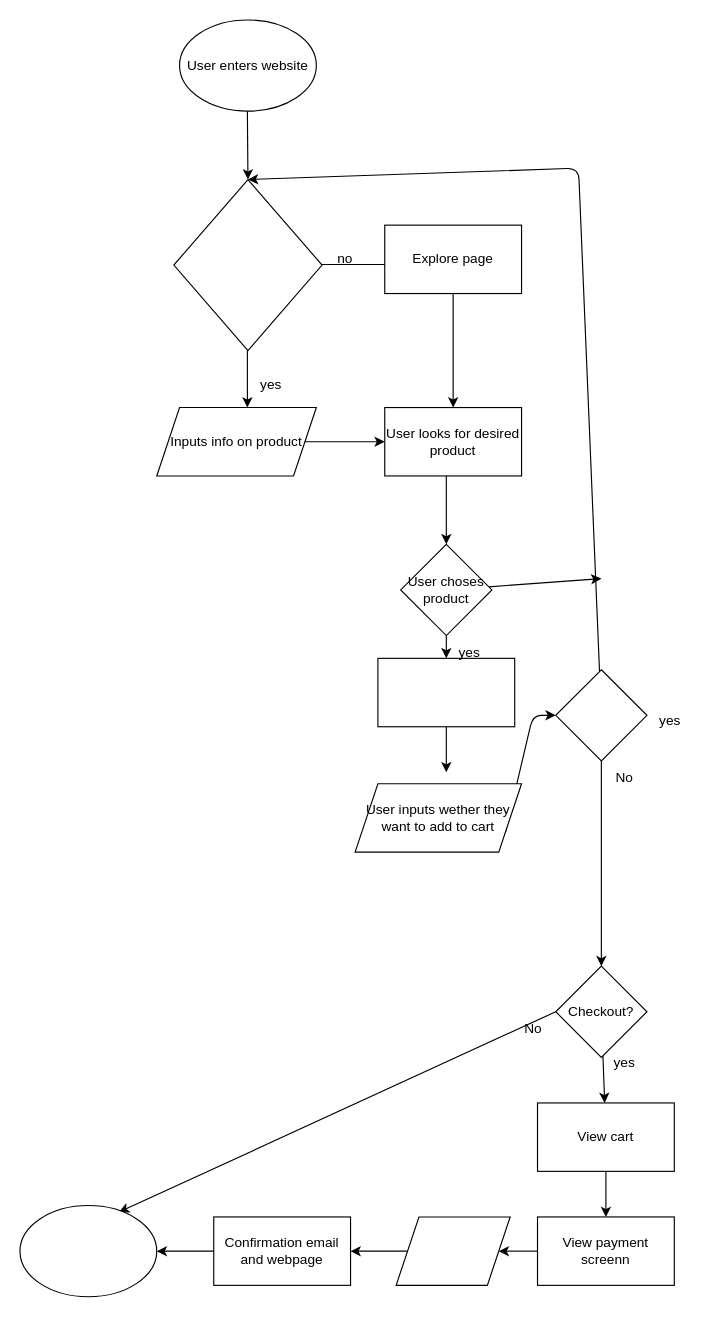
Image size: 713x1317. Some labels were removed from this diagram. The centre of each missing label's shape, as x and y in pixels:
"Continue shoping?" goes at [601,715].
"payment input added" goes at [452,1250].
"Product webpage opens" goes at [446,692].
"Search for a product = yes?" goes at [247,264].
"User exits the website" goes at [88,1250].
